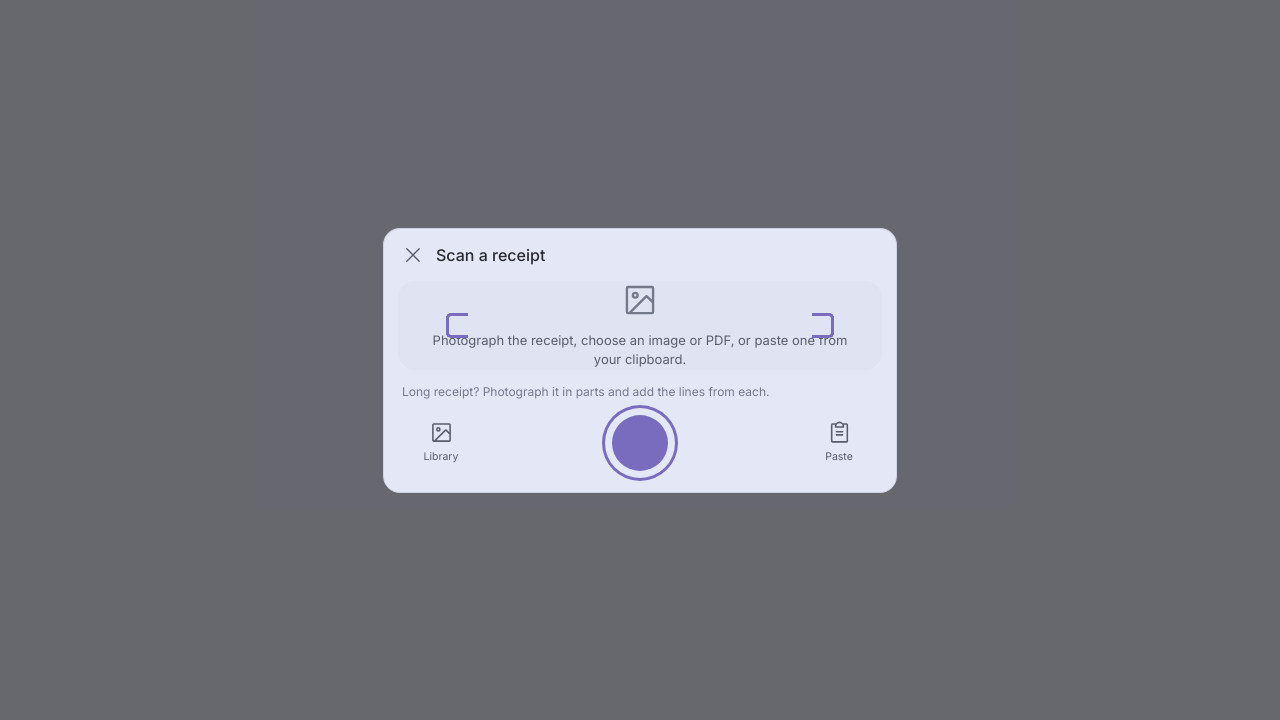
Test case: ReceiptScanner paste › shows an error when the clipboard API is unsupported
What coordinates should you click on to do the following:
click the button with aria-label "paste from clipboard"
I would click on:
 (839, 442)
Its box is [810, 420, 868, 465].
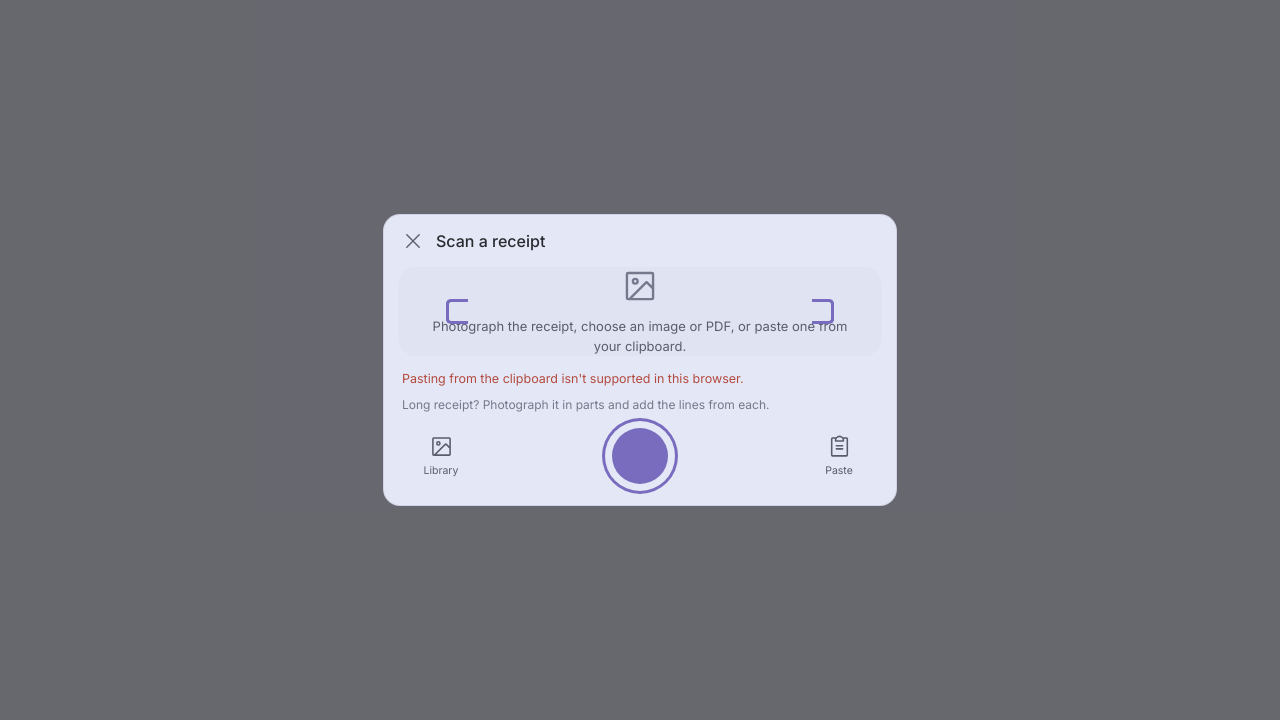
Check: the text "Pasting from the clipboard isn't supported in this browser." is shown, box [402, 371, 744, 386]
